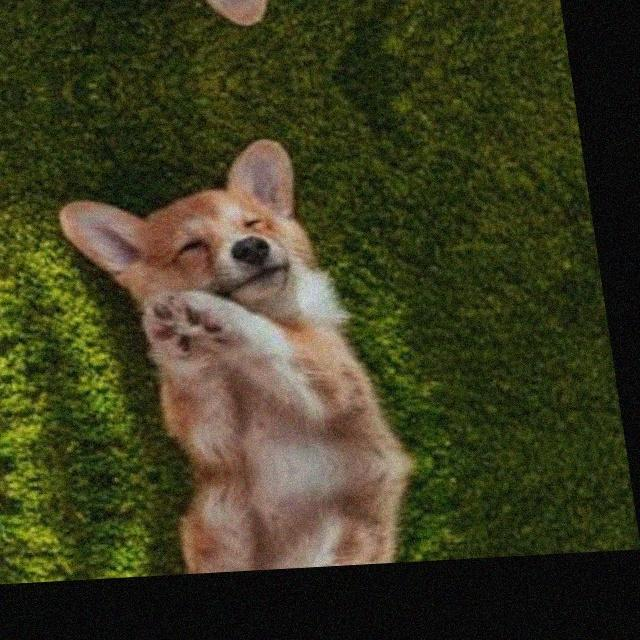dog: (32, 118, 422, 481), (82, 462, 436, 579), (11, 0, 358, 51)
